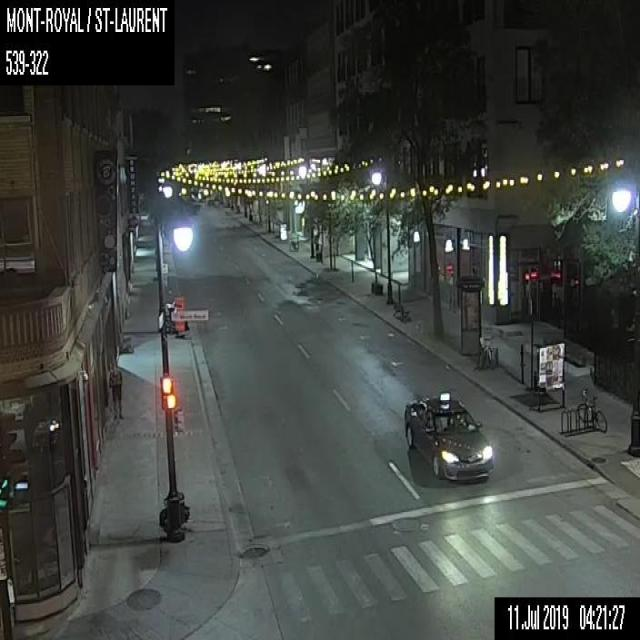construction: (174, 295, 184, 338)
pedestrian: (106, 362, 122, 418)
vehicle: (402, 391, 494, 478)
